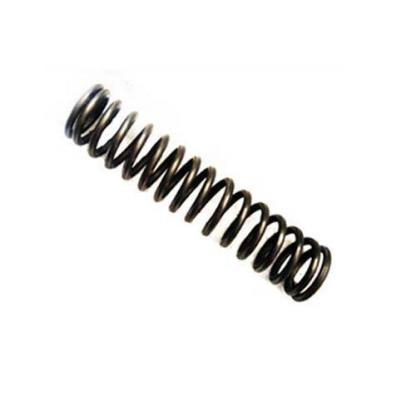FOD: (58, 71, 334, 313)
